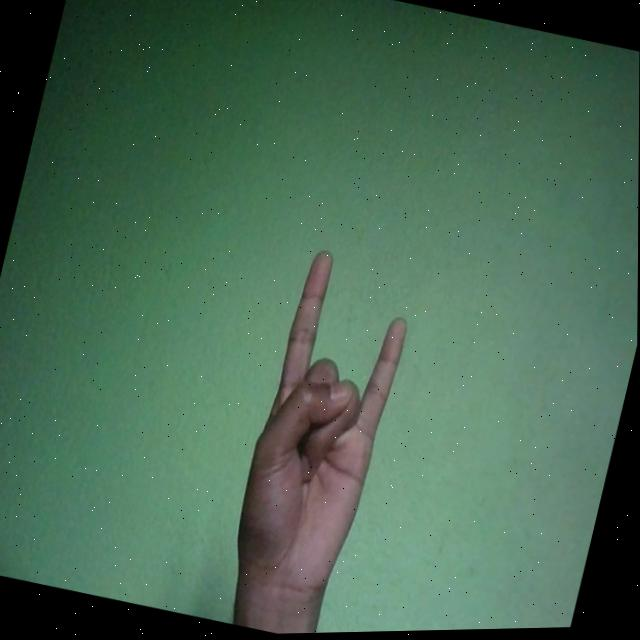Rock On: (221, 243, 424, 619)
